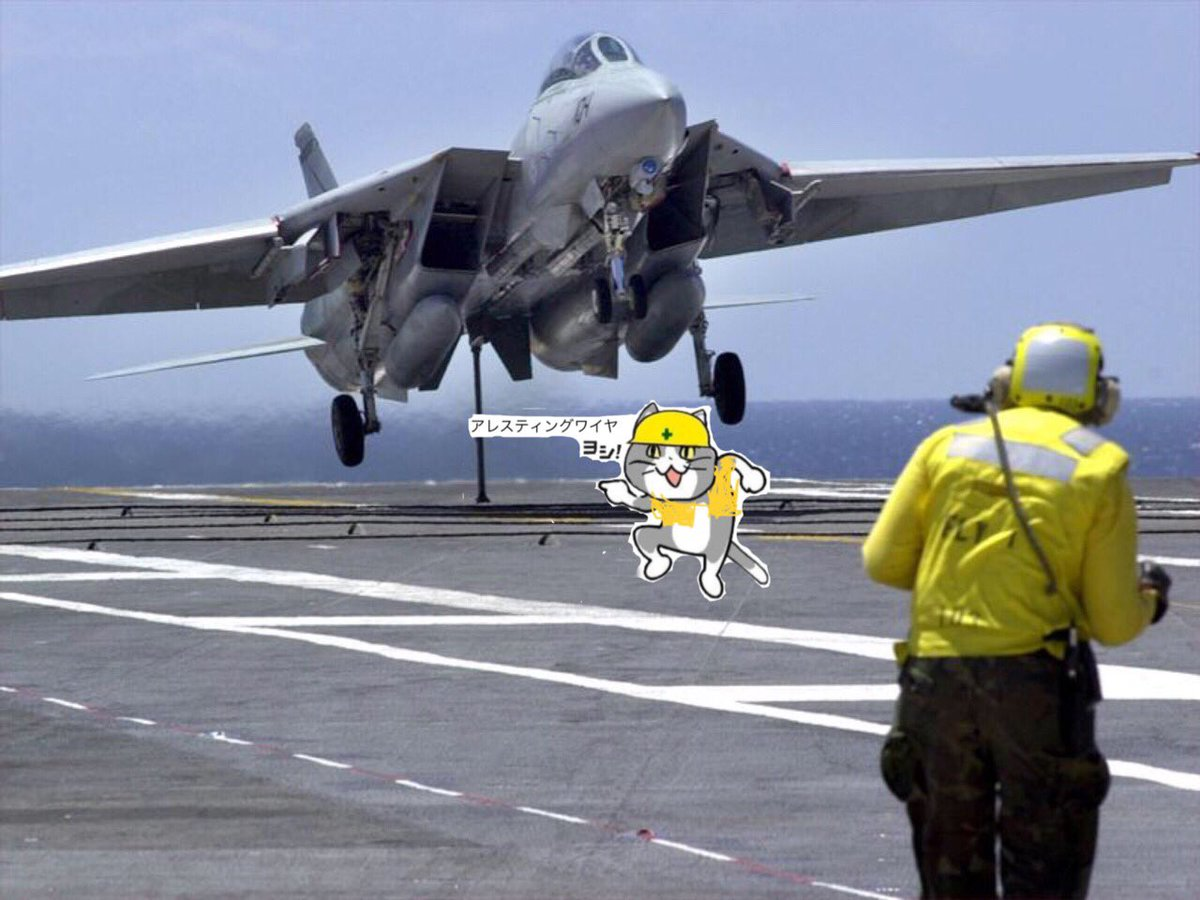F14: (1, 30, 1200, 504)
